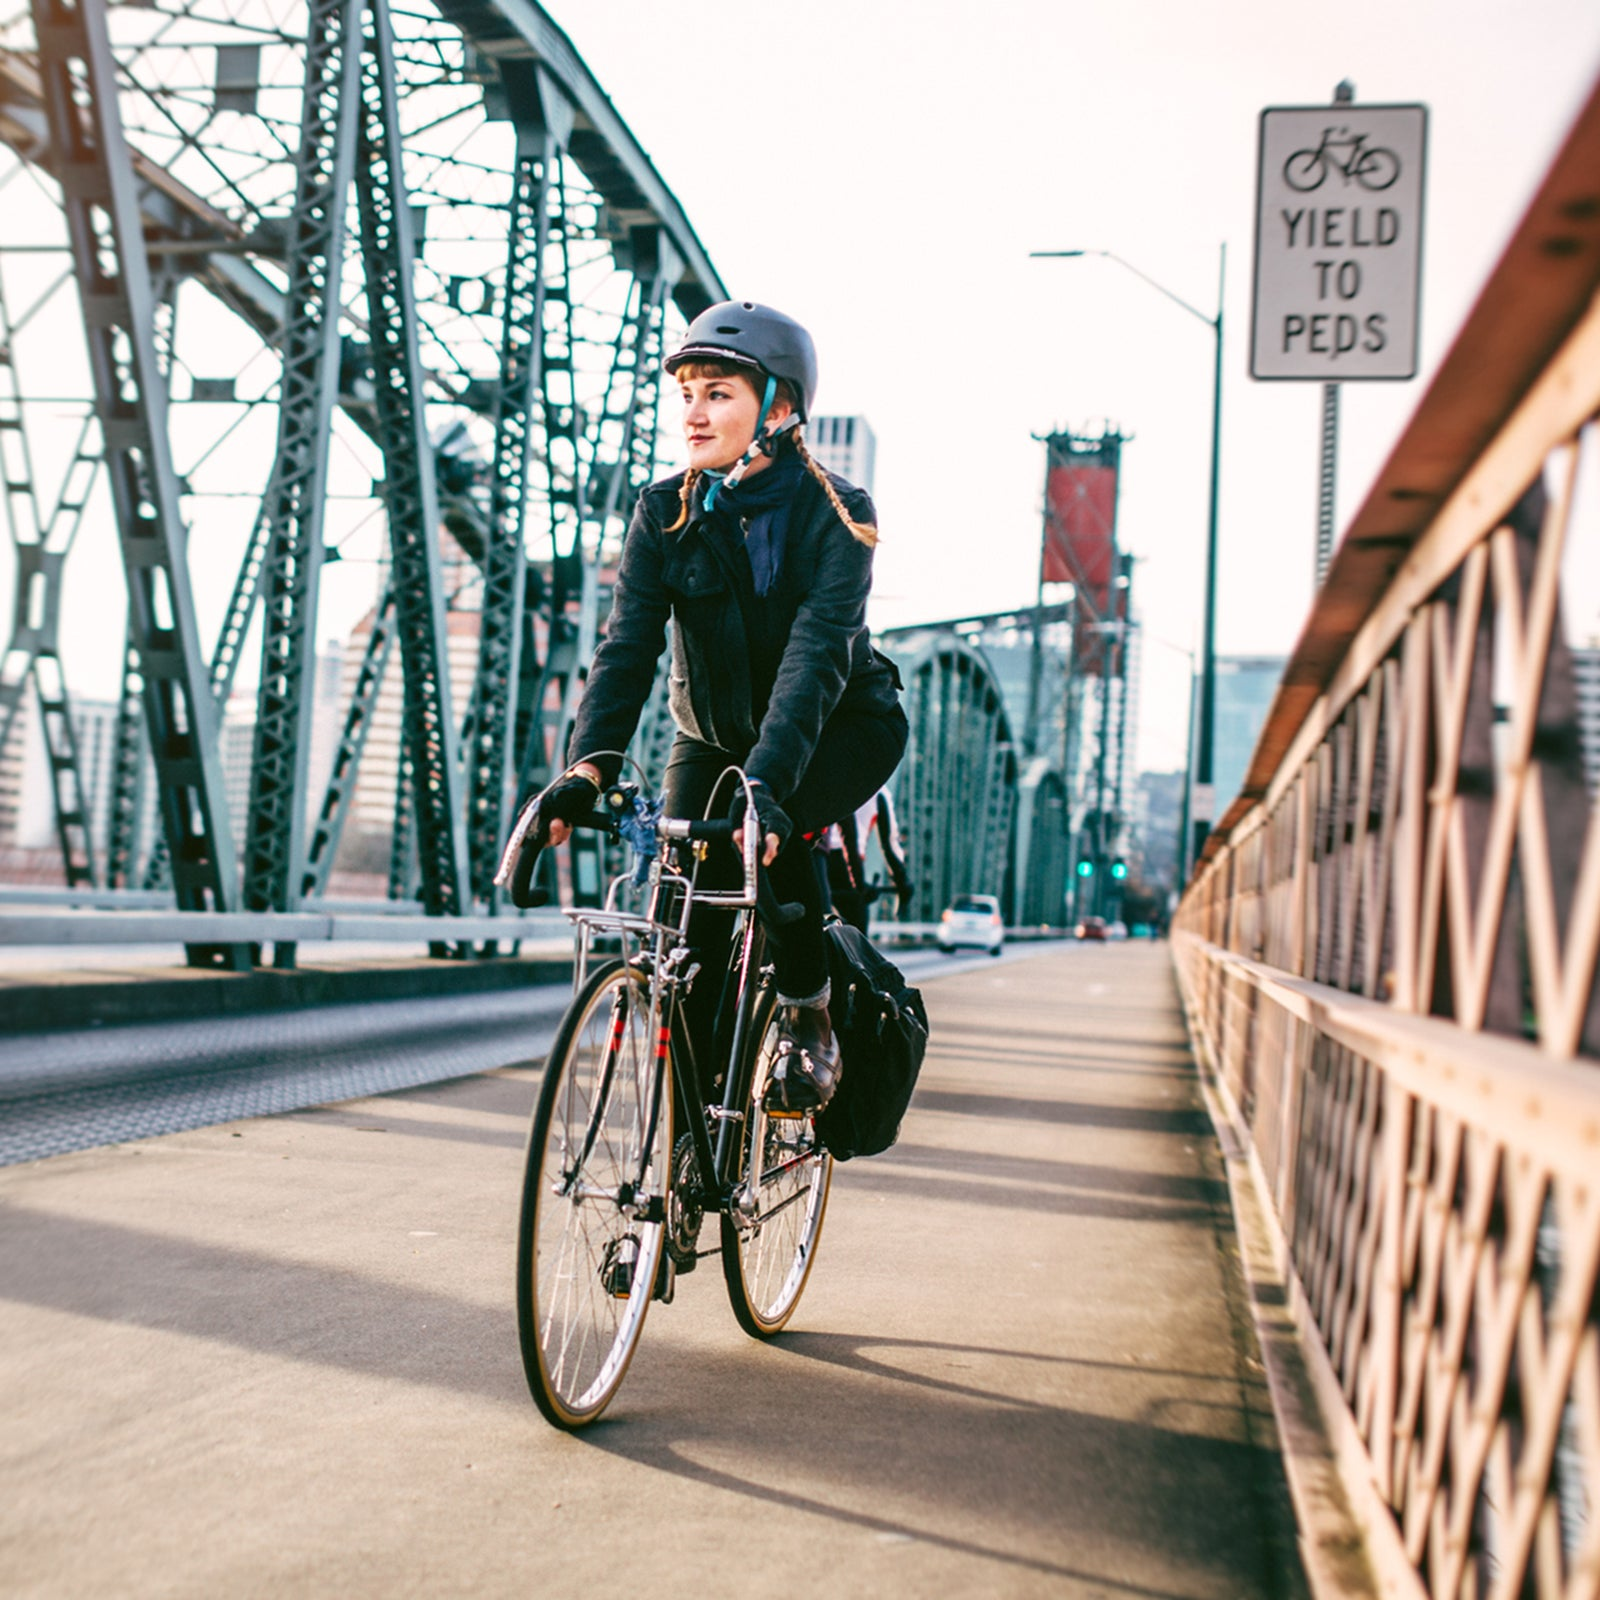helmet: (662, 300, 818, 467)
